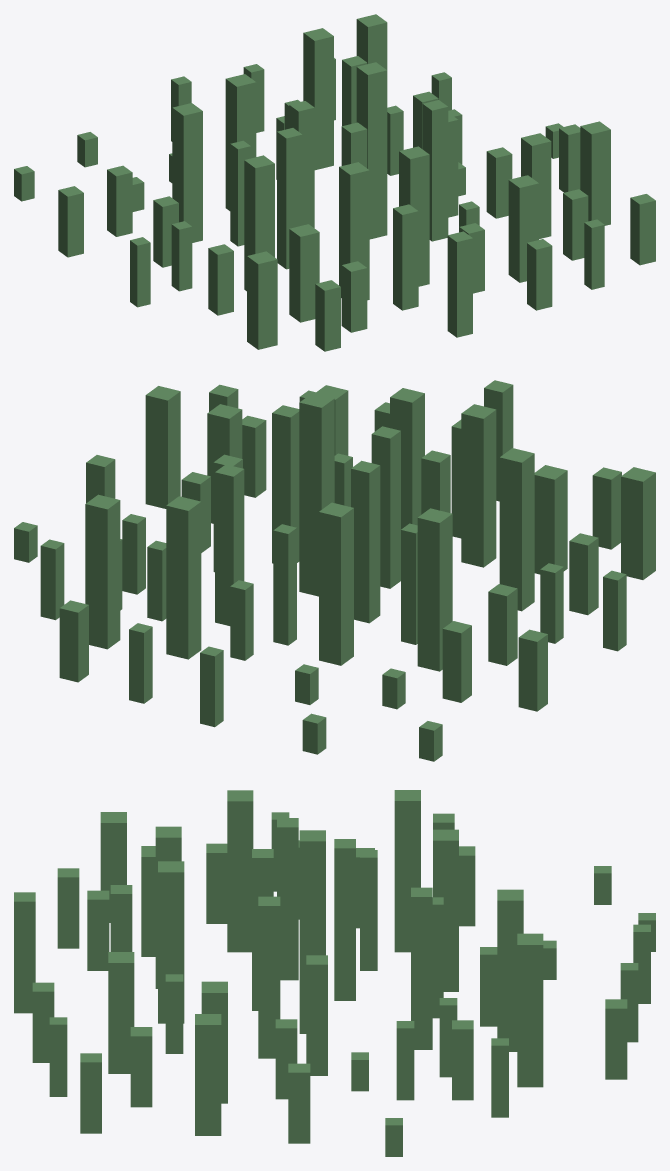
The model's file is PlantA_003.fbx.
3 views of the same model, one above another, from view 1: azimuth 30°, elevation 25°; view 2: azimuth 150°, elevation 25°; view 3: azimuth 270°, elevation 25° (orthographic). The views are drawn at different scales.
Parts seen in each view (by area): view 1: PlantA_003; view 2: PlantA_003; view 3: PlantA_003.
Part boxes in pixels (x1,y1,x2,y2): PlantA_003: (14, 14, 655, 351); PlantA_003: (14, 380, 655, 761); PlantA_003: (14, 790, 655, 1156).
Size of the model in its own units: 0.9808 by 0.3234 by 0.977.
